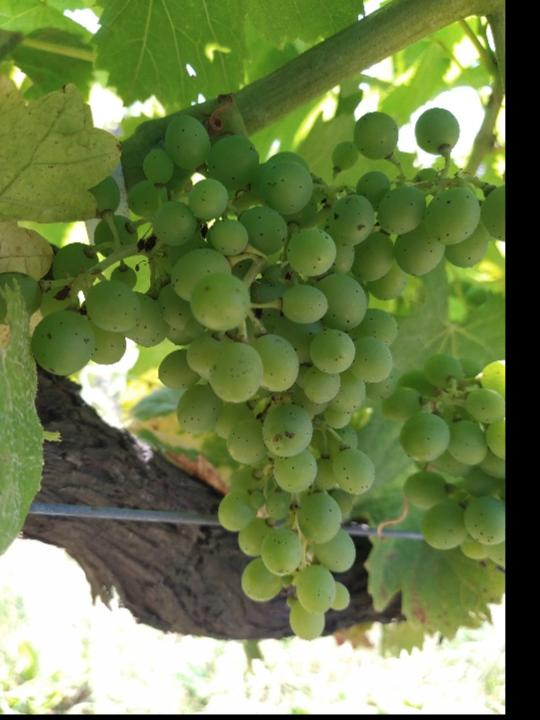grape: (0, 105, 501, 642)
